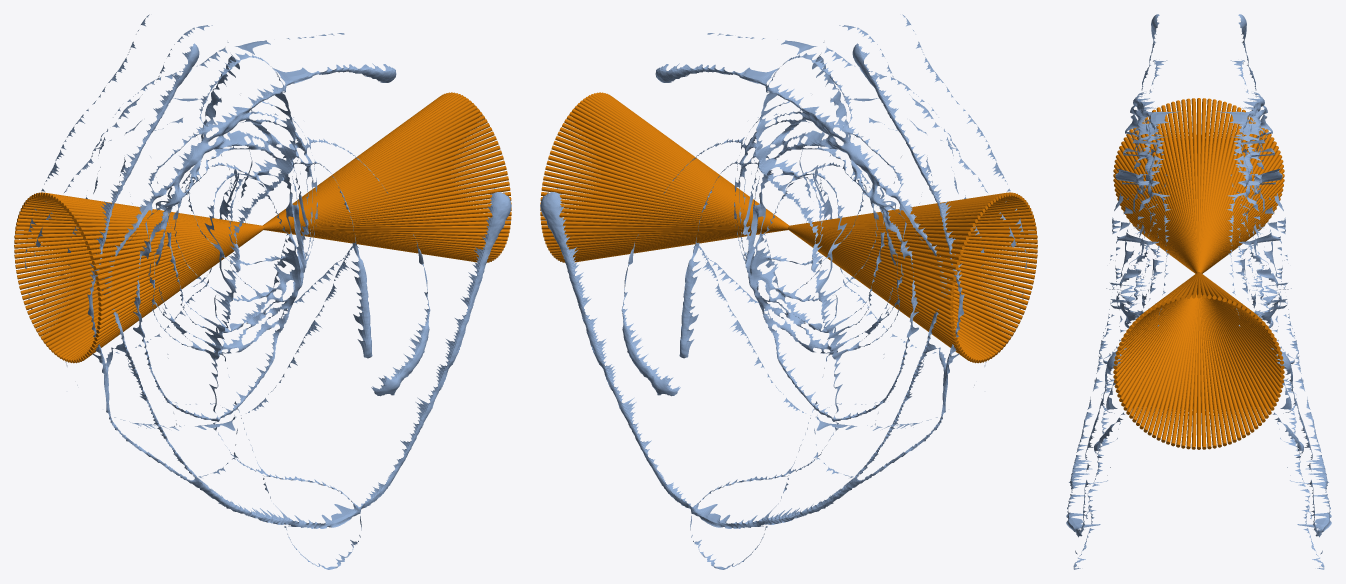
Rendered from 20102643_5995-37-507-1550_DigitalTwin.glb.
3 views of the same model, side by side, from view 1: azimuth 30°, elevation 25°; view 2: azimuth 150°, elevation 25°; view 3: azimuth 270°, elevation 25° (orthographic).
Parts seen in each view (by area): view 1: world; view 2: world; view 3: world.
Boxes of the visible parts, box(x1,y1,x2,y2) form: world: box(14, 14, 511, 569); world: box(540, 14, 1037, 569); world: box(1066, 14, 1331, 569).
Size of the model in its own units: 458 by 549 by 261.
